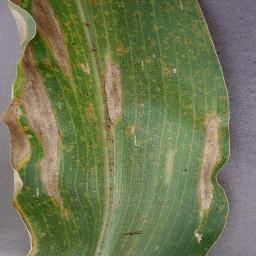Corn_Blight: (0, 0, 76, 256), (191, 98, 224, 245), (96, 34, 128, 137), (126, 2, 147, 149), (149, 19, 181, 80), (80, 16, 95, 132), (93, 0, 122, 27), (104, 139, 114, 207), (79, 135, 97, 168), (113, 224, 143, 241)
